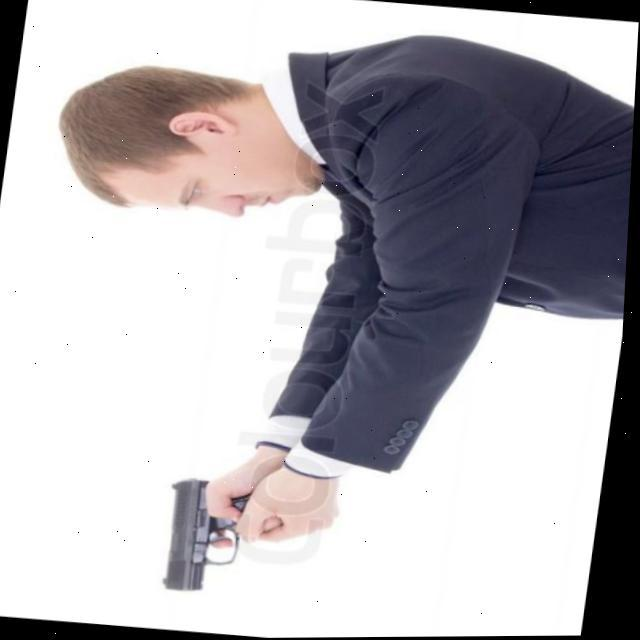gun: (162, 474, 263, 596)
